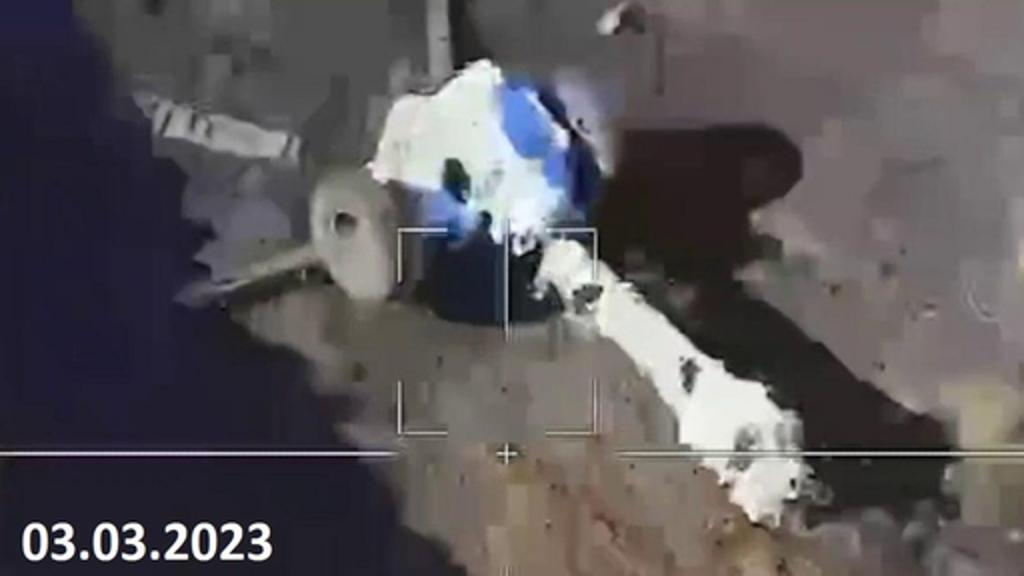ART: (170, 16, 830, 536)
